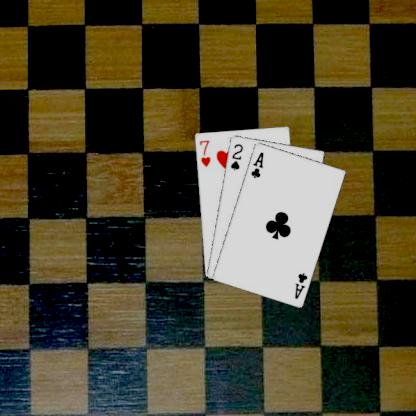2S: (228, 141, 244, 171)
7H: (197, 137, 211, 168)
AC: (248, 149, 265, 179), (292, 270, 308, 300)
